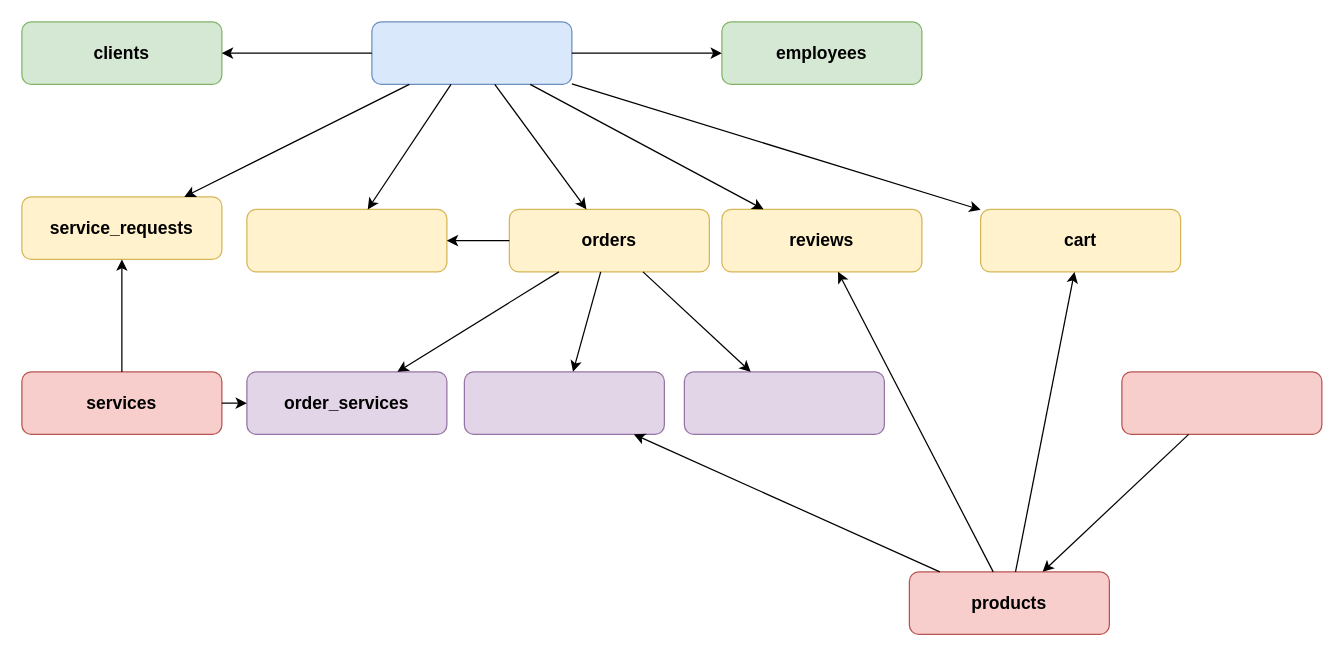
Some shapes in this 1344 by 656 pixel diagram are drawn without their labels. Here are the shapes that lost their labels. From the top down, the centre of each, then its label:
At point (471, 52): "users".
At point (346, 240): "chat_messages".
At point (563, 402): "order_items".
At point (783, 402): "payments".
At point (1221, 402): "brands".
